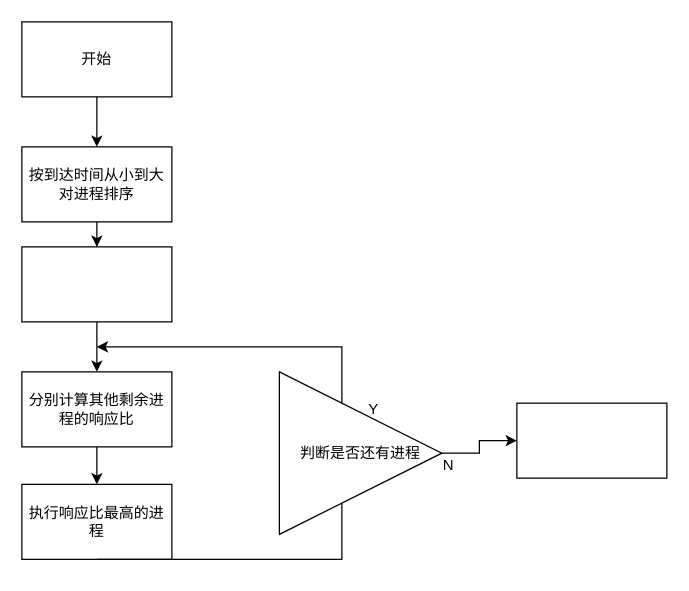
Some shapes in this 689 by 591 pixel diagram are drawn without their labels. The shapes that lost their labels are listed below. From the top down, each one's centre as x and y in pixels, then its label:
At [96,284]: "先执行第一个进程".
At [591,440]: "结束".
